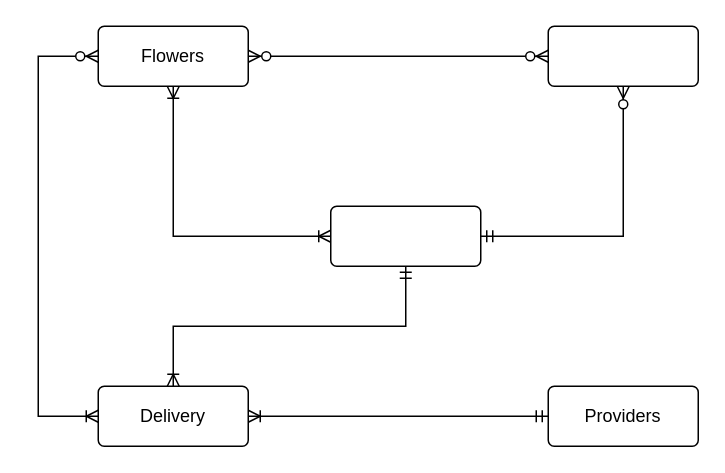
This 725x473 diagram has some shape labels left out. Each missing label, with the centre of its shape:
"Purchases" belongs at point (622, 55).
"Shops" belongs at point (405, 235).
